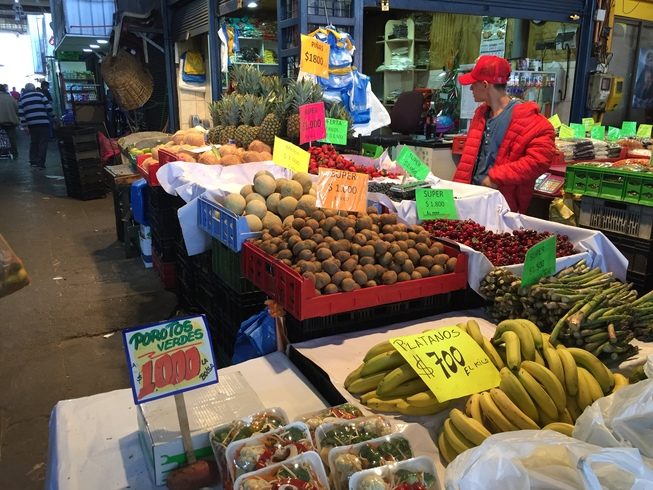precio: (394, 324, 494, 404), (121, 320, 221, 397), (304, 168, 373, 215), (522, 237, 565, 295), (413, 184, 464, 229), (394, 143, 436, 192), (296, 32, 333, 82), (270, 134, 314, 171), (301, 100, 324, 150), (323, 120, 351, 144), (584, 123, 610, 144), (621, 117, 638, 142), (555, 125, 578, 142), (638, 118, 652, 144), (546, 114, 565, 133), (609, 123, 624, 146), (580, 114, 596, 135), (570, 122, 585, 144)
